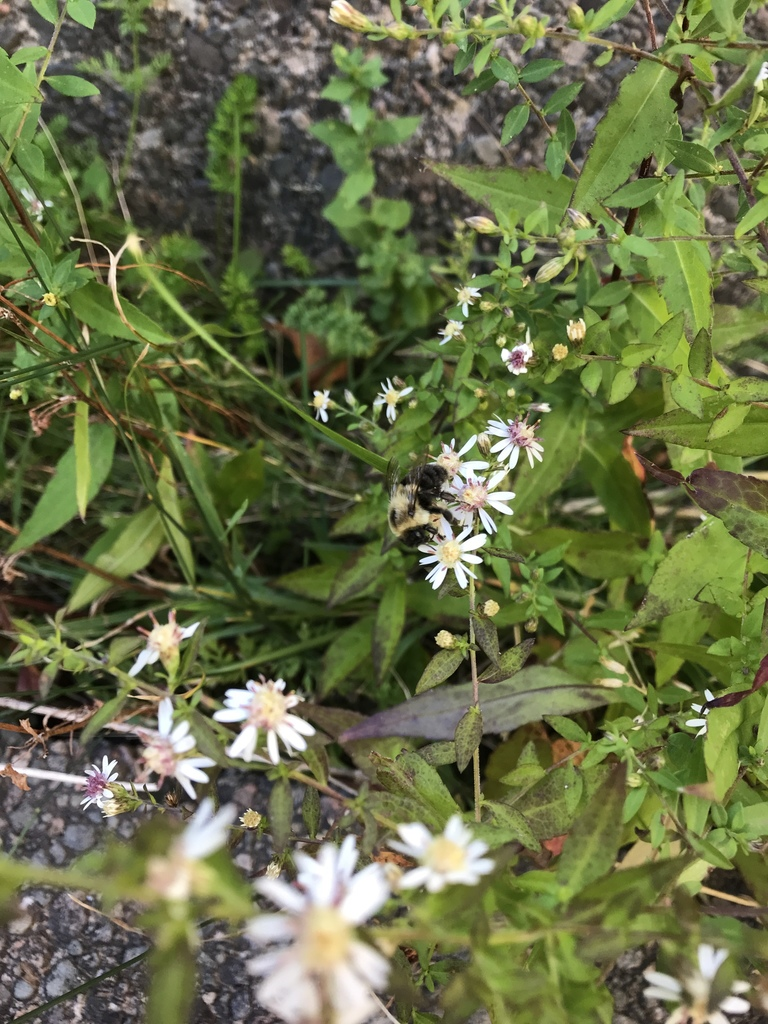bumblebee: (385, 445, 452, 549)
